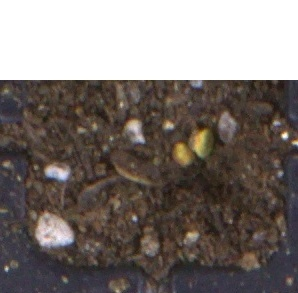chilli seed: (188, 126, 214, 158), (170, 141, 195, 167)
